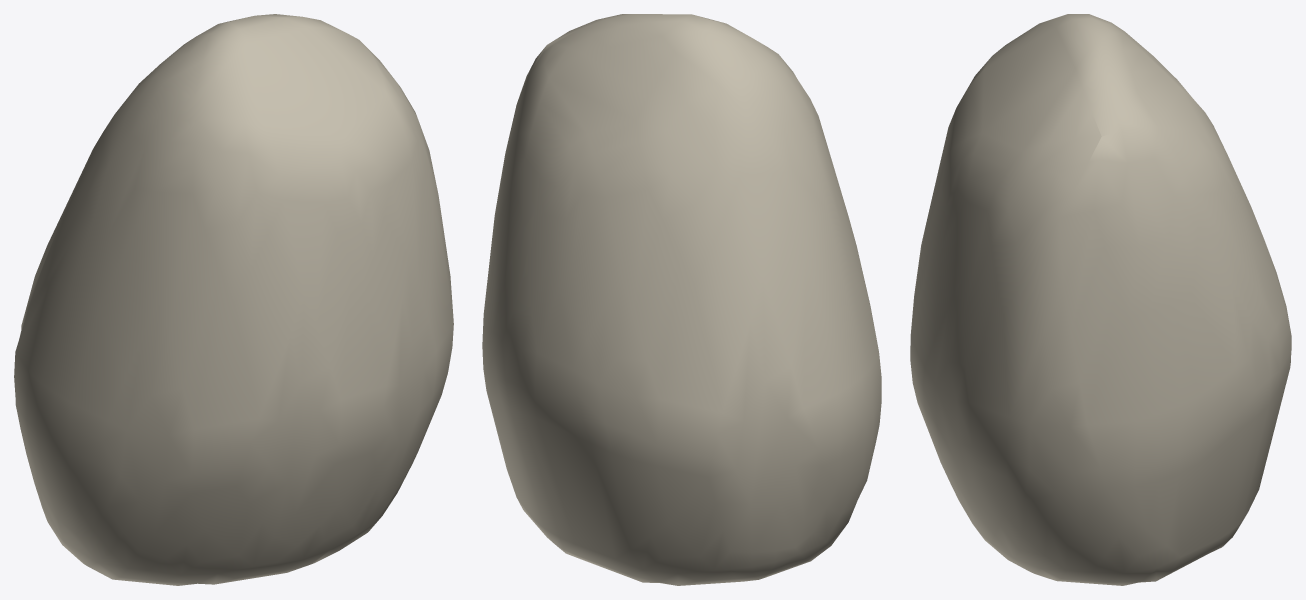
File: Boulder_02_Upright_MaxPoligon.fbx
3 views of the same model, side by side, from view 1: azimuth 30°, elevation 25°; view 2: azimuth 150°, elevation 25°; view 3: azimuth 270°, elevation 25° (orthographic). The views are drawn at different scales.
Parts seen in each view (by area): view 1: Boulder_02_Upright; view 2: Boulder_02_Upright; view 3: Boulder_02_Upright.
Boxes of the visible parts, left/top/right/bottom form: Boulder_02_Upright: left=14, top=14, right=453, bottom=585; Boulder_02_Upright: left=482, top=14, right=881, bottom=585; Boulder_02_Upright: left=910, top=14, right=1291, bottom=585.
Bounding box in the file's own units: 1.73 × 2.26 × 1.53.
